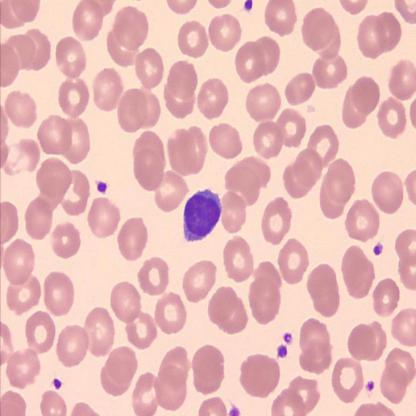Lymphocyte: (183, 188, 222, 243)
